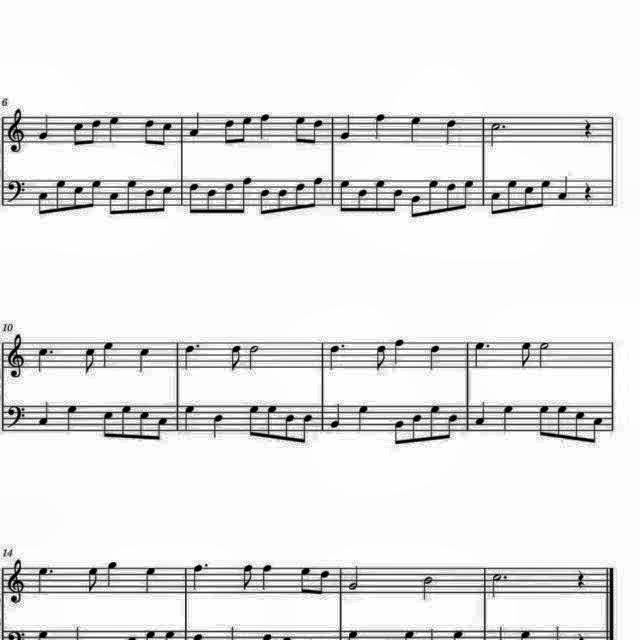Bass-clef: (4, 177, 28, 206), (4, 403, 28, 431)
Eighth-note: (336, 175, 354, 212), (426, 402, 442, 442), (54, 177, 70, 216), (424, 179, 440, 217), (506, 176, 522, 214), (124, 178, 140, 216), (116, 403, 132, 441), (570, 406, 586, 444), (554, 403, 570, 441), (373, 178, 389, 215), (444, 180, 460, 216), (310, 174, 326, 210), (136, 408, 152, 444), (80, 344, 98, 376), (85, 562, 103, 594), (244, 402, 260, 438), (535, 402, 551, 438), (240, 174, 254, 214), (220, 181, 236, 215), (89, 177, 105, 211), (460, 176, 476, 210), (296, 564, 312, 598), (536, 176, 552, 210), (374, 341, 391, 373), (238, 561, 256, 591), (266, 402, 280, 440), (410, 412, 426, 444), (316, 566, 332, 598), (100, 408, 116, 440), (184, 180, 200, 212), (140, 116, 156, 148), (258, 186, 274, 218), (220, 116, 236, 148), (292, 116, 308, 148), (590, 414, 606, 446), (238, 114, 254, 146), (89, 115, 105, 146), (300, 411, 316, 442), (518, 338, 534, 369), (160, 184, 176, 214), (280, 412, 296, 442), (310, 118, 326, 148), (70, 118, 86, 148), (160, 120, 176, 150), (229, 342, 245, 372), (70, 184, 86, 212), (292, 181, 306, 213), (408, 194, 424, 222), (106, 190, 122, 218), (488, 188, 504, 216), (155, 416, 171, 444), (34, 190, 50, 218), (446, 411, 460, 442), (354, 188, 370, 215), (392, 417, 406, 447), (142, 188, 156, 216), (521, 184, 535, 212), (205, 185, 219, 213), (276, 187, 290, 215), (391, 188, 404, 215)
Half-dot: (487, 118, 509, 152), (488, 571, 509, 601)
Half-note: (534, 338, 552, 369), (245, 341, 262, 371), (419, 572, 437, 600), (346, 561, 362, 591)
Quarter-dot: (33, 343, 56, 375), (326, 340, 349, 372), (182, 340, 205, 372), (471, 339, 494, 369), (33, 564, 55, 594), (192, 560, 212, 592)
Quarter-note: (406, 114, 426, 146), (140, 564, 160, 596), (442, 116, 462, 148), (134, 344, 154, 374), (35, 112, 53, 144), (338, 112, 356, 144), (390, 336, 408, 368), (425, 341, 443, 372), (353, 402, 371, 433), (371, 111, 389, 142), (255, 110, 272, 142), (259, 561, 277, 591), (498, 403, 516, 433), (180, 403, 198, 433), (100, 338, 116, 370), (106, 114, 122, 146), (185, 111, 202, 141), (64, 402, 80, 433), (36, 400, 52, 430), (104, 559, 120, 589), (210, 412, 227, 440), (327, 402, 343, 430), (474, 400, 490, 428), (556, 174, 572, 202)
Quarter-rest: (578, 117, 596, 143), (572, 566, 588, 590), (580, 178, 596, 202)
Treble-clef: (5, 331, 28, 382), (4, 558, 28, 606), (5, 107, 28, 157)
